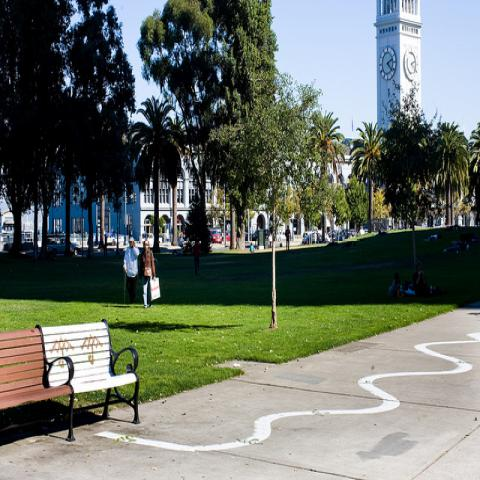bus: (2, 221, 15, 250)
car: (210, 229, 222, 243), (335, 231, 346, 240), (178, 234, 186, 246), (342, 228, 351, 238), (302, 235, 311, 245), (349, 229, 355, 233)
truck: (46, 237, 82, 256)
